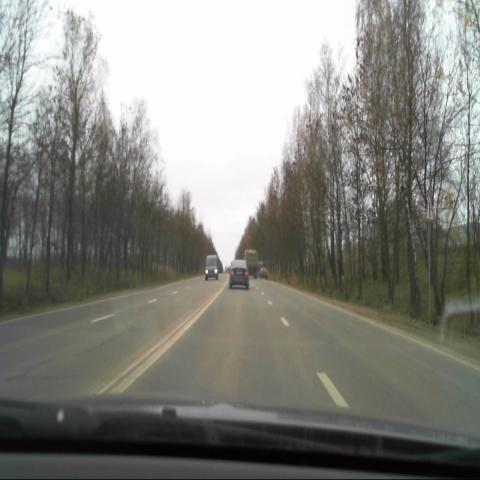2_3_2: (424, 191, 436, 222)
